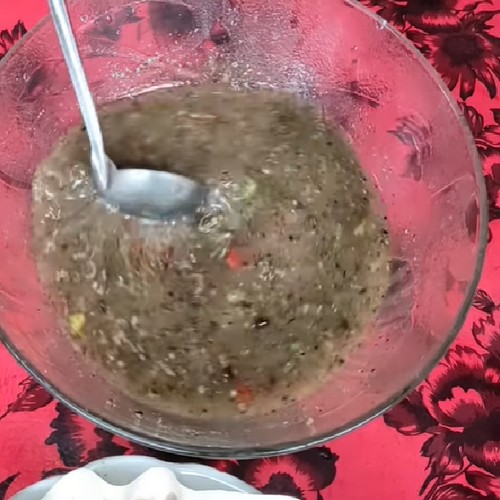komoh: (87, 213, 402, 388)
